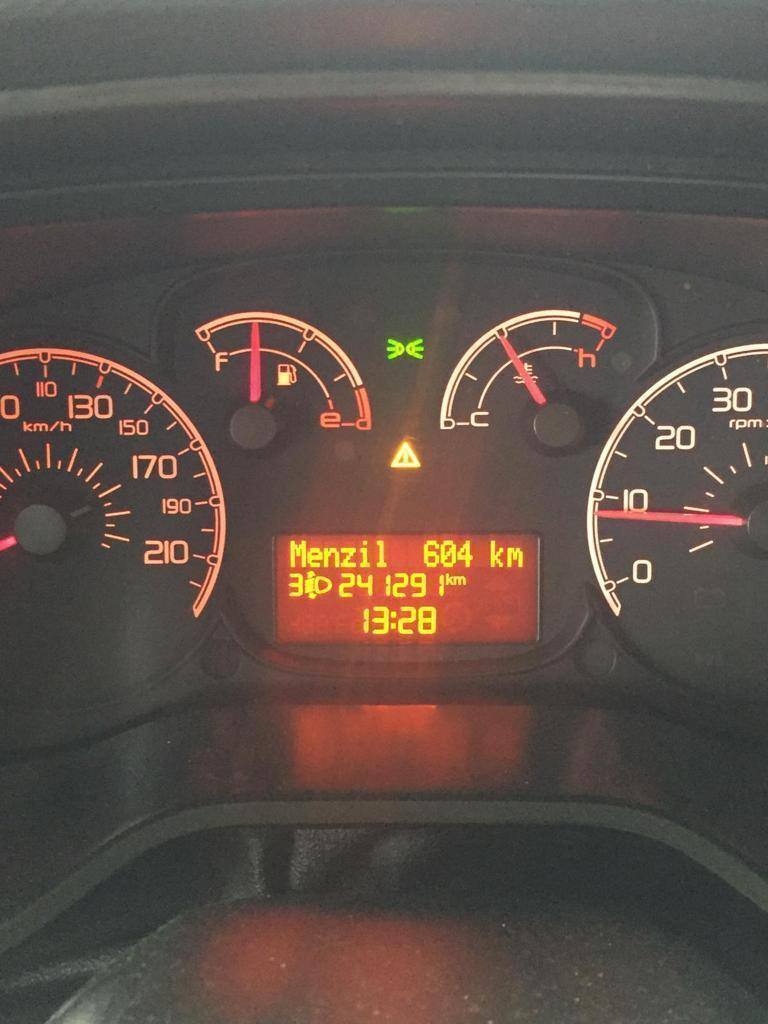0: (440, 537, 456, 568)
1: (359, 607, 369, 635), (381, 572, 391, 598), (436, 572, 444, 598)
2: (397, 605, 416, 635), (392, 570, 408, 598), (337, 571, 354, 597)
3: (370, 604, 389, 635), (286, 571, 304, 599)
4: (456, 537, 474, 568), (354, 572, 374, 597)
6: (421, 538, 440, 568)
8: (417, 604, 436, 635)
9: (409, 571, 428, 598)
X: (287, 538, 307, 568), (487, 537, 505, 569), (356, 538, 371, 568), (505, 546, 524, 568), (339, 545, 357, 568), (323, 545, 340, 568), (375, 537, 387, 569), (306, 547, 322, 567), (389, 609, 397, 630), (454, 575, 467, 586), (445, 570, 453, 585)
odometer: (269, 527, 543, 648)
